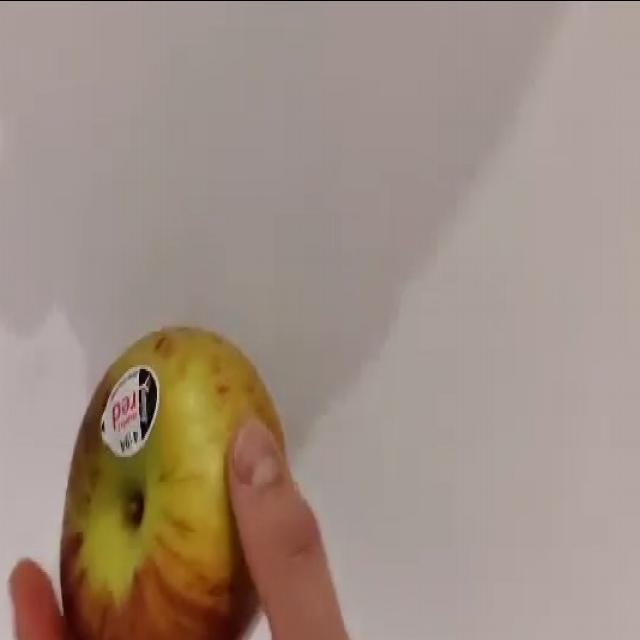Banana: (58, 324, 287, 638)
